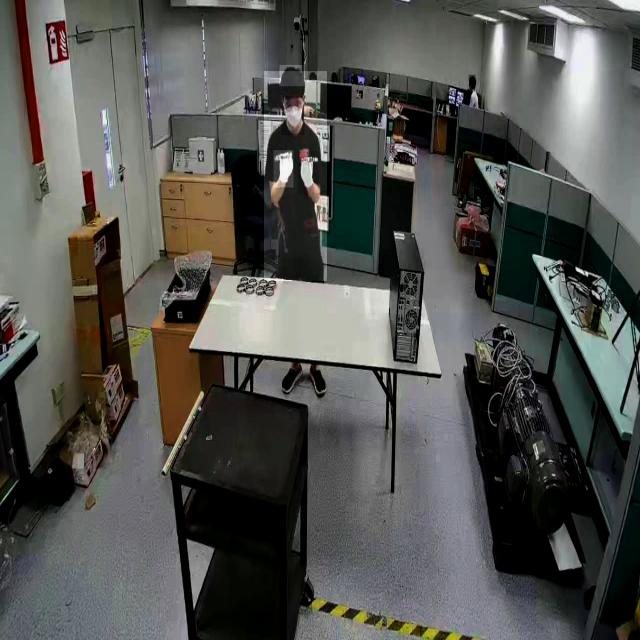face_mask: (282, 96, 304, 135)
hand_glove: (298, 151, 319, 195), (274, 150, 294, 188)
head_nohelmet: (280, 65, 306, 87), (468, 74, 476, 82)
person: (264, 71, 328, 282)
shoes: (279, 364, 305, 396), (308, 364, 330, 399)
